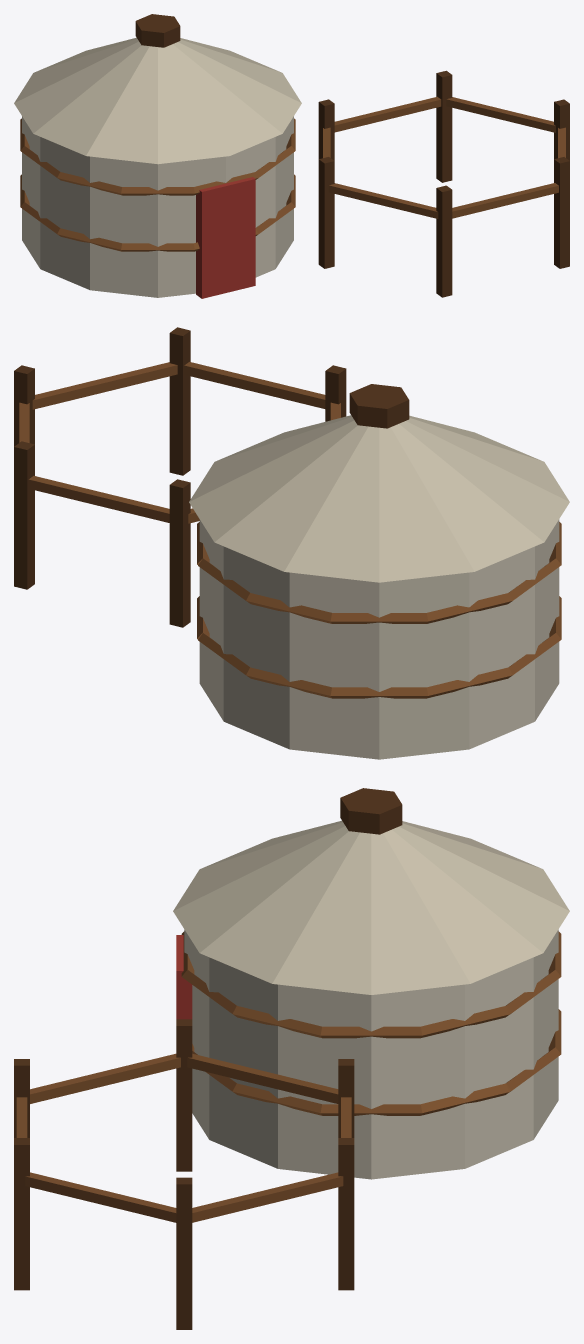
The model's file is orc_house_c_broken.glb.
3 renders of one model, top to bottom at view 1: azimuth 30°, elevation 25°; view 2: azimuth 150°, elevation 25°; view 3: azimuth 270°, elevation 25°, orthographic. The views are drawn at different scales.
Visible parts, largest first — view 1: orc_house_c_piece1, orc_house_c_piece6, orc_house_c_piece3, orc_house_c_piece2, orc_house_c_piece0, orc_house_c_piece7, orc_house_c_piece10, orc_house_c_piece5; view 2: orc_house_c_piece2, orc_house_c_piece1, orc_house_c_piece0, orc_house_c_piece6, orc_house_c_piece4, orc_house_c_piece10, orc_house_c_piece3, orc_house_c_piece9; view 3: orc_house_c_piece2, orc_house_c_piece7, orc_house_c_piece3, orc_house_c_piece0, orc_house_c_piece4, orc_house_c_piece8, orc_house_c_piece1, orc_house_c_piece6, orc_house_c_piece10, orc_house_c_piece5, orc_house_c_piece9.
Boxes of the visible parts, <box> form: orc_house_c_piece1: <box>20,118,327,298</box>; orc_house_c_piece6: <box>31,57,239,199</box>; orc_house_c_piece3: <box>206,95,516,255</box>; orc_house_c_piece2: <box>14,14,275,137</box>; orc_house_c_piece0: <box>286,74,569,188</box>; orc_house_c_piece7: <box>157,53,301,181</box>; orc_house_c_piece10: <box>504,144,569,265</box>; orc_house_c_piece5: <box>286,184,569,297</box>; orc_house_c_piece2: <box>189,384,535,634</box>; orc_house_c_piece1: <box>252,521,561,759</box>; orc_house_c_piece0: <box>14,365,199,589</box>; orc_house_c_piece6: <box>409,415,569,559</box>; orc_house_c_piece4: <box>26,571,254,731</box>; orc_house_c_piece10: <box>74,327,251,471</box>; orc_house_c_piece3: <box>248,365,484,436</box>; orc_house_c_piece9: <box>14,441,244,487</box>; orc_house_c_piece2: <box>336,788,569,1111</box>; orc_house_c_piece7: <box>224,823,390,1110</box>; orc_house_c_piece3: <box>14,900,266,1137</box>; orc_house_c_piece0: <box>125,1038,362,1290</box>; orc_house_c_piece4: <box>394,1015,561,1174</box>; orc_house_c_piece8: <box>260,1015,550,1179</box>; orc_house_c_piece1: <box>176,982,561,1157</box>; orc_house_c_piece6: <box>176,820,342,941</box>; orc_house_c_piece10: <box>14,1135,192,1329</box>; orc_house_c_piece5: <box>14,1083,293,1290</box>; orc_house_c_piece9: <box>339,973,402,1186</box>.
Size of the model in its own units: 2.77 by 1.23 by 2.08.
